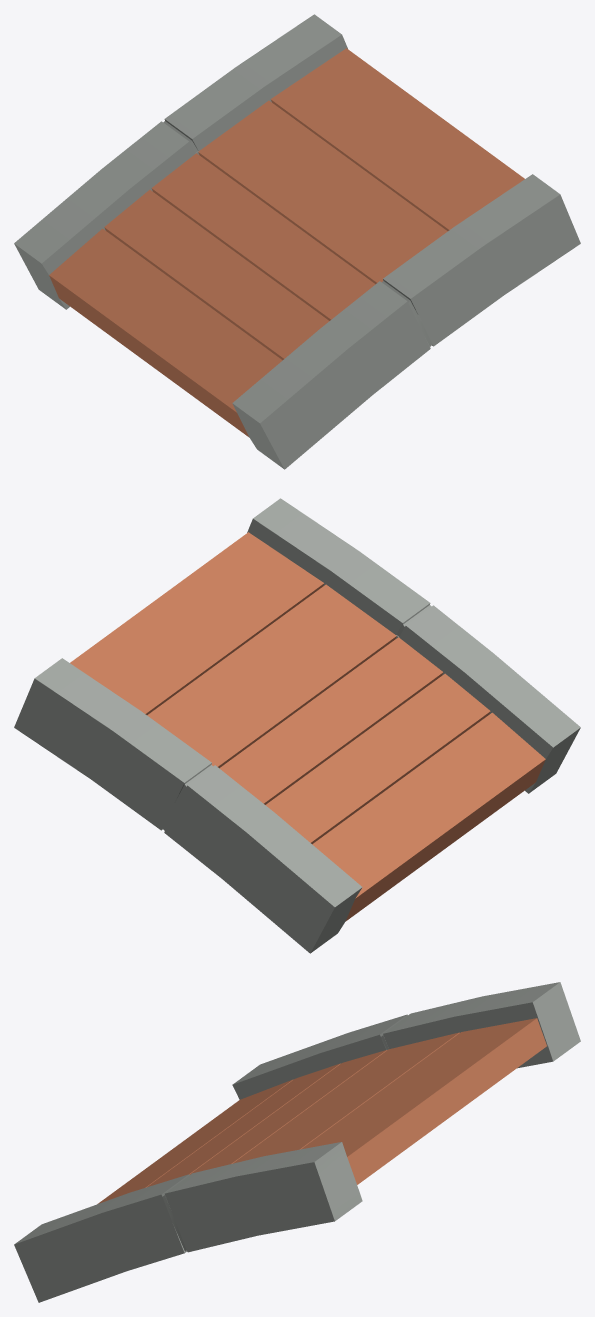
The model's file is BridgeMSide.fbx.
3 views of the same model, one above another, from view 1: azimuth 30°, elevation 25°; view 2: azimuth 150°, elevation 25°; view 3: azimuth 330°, elevation 25° (orthographic).
Visible parts, largest first — view 1: Cube.034; view 2: Cube.034; view 3: Cube.034.
Part boxes in pixels (<box>): Cube.034: <box>14,14,580,469</box>; Cube.034: <box>14,498,580,953</box>; Cube.034: <box>14,982,580,1302</box>.
Size of the model in its own units: 77.91 by 48.28 by 103.
1 material, 1 textured.
